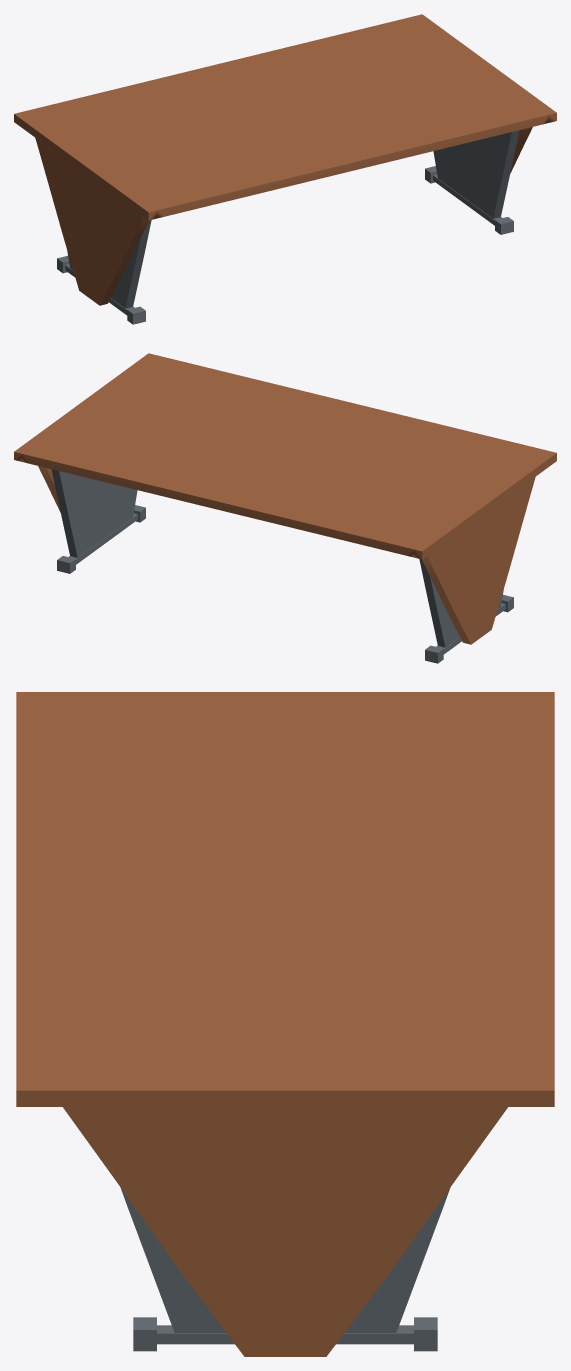
Rendered from newbookarchive_desk.fbx.
The picture shows the model from 3 angles, top to bottom: view 1: azimuth 30°, elevation 25°; view 2: azimuth 150°, elevation 25°; view 3: azimuth 270°, elevation 25°; orthographic projection. The views are drawn at different scales.
Parts seen in each view (by area): view 1: newbookarchive_desk; view 2: newbookarchive_desk; view 3: newbookarchive_desk.
Part boxes in pixels (x1=…): newbookarchive_desk: x1=14, y1=14, x2=556, y2=324; newbookarchive_desk: x1=14, y1=353, x2=556, y2=663; newbookarchive_desk: x1=16, y1=692, x2=554, y2=1356.
Size of the model in its own units: 0.0154 by 0.00495 by 0.0088.
Materials: 1 (1 with a texture image).
